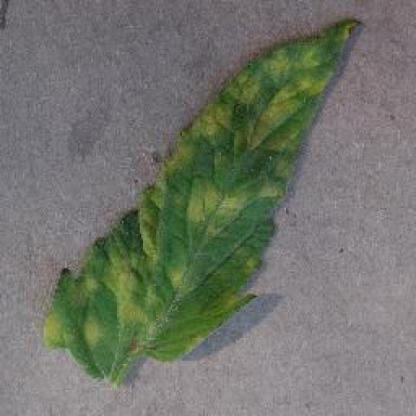Tomato_Leaf_Mold: (46, 18, 359, 377)
